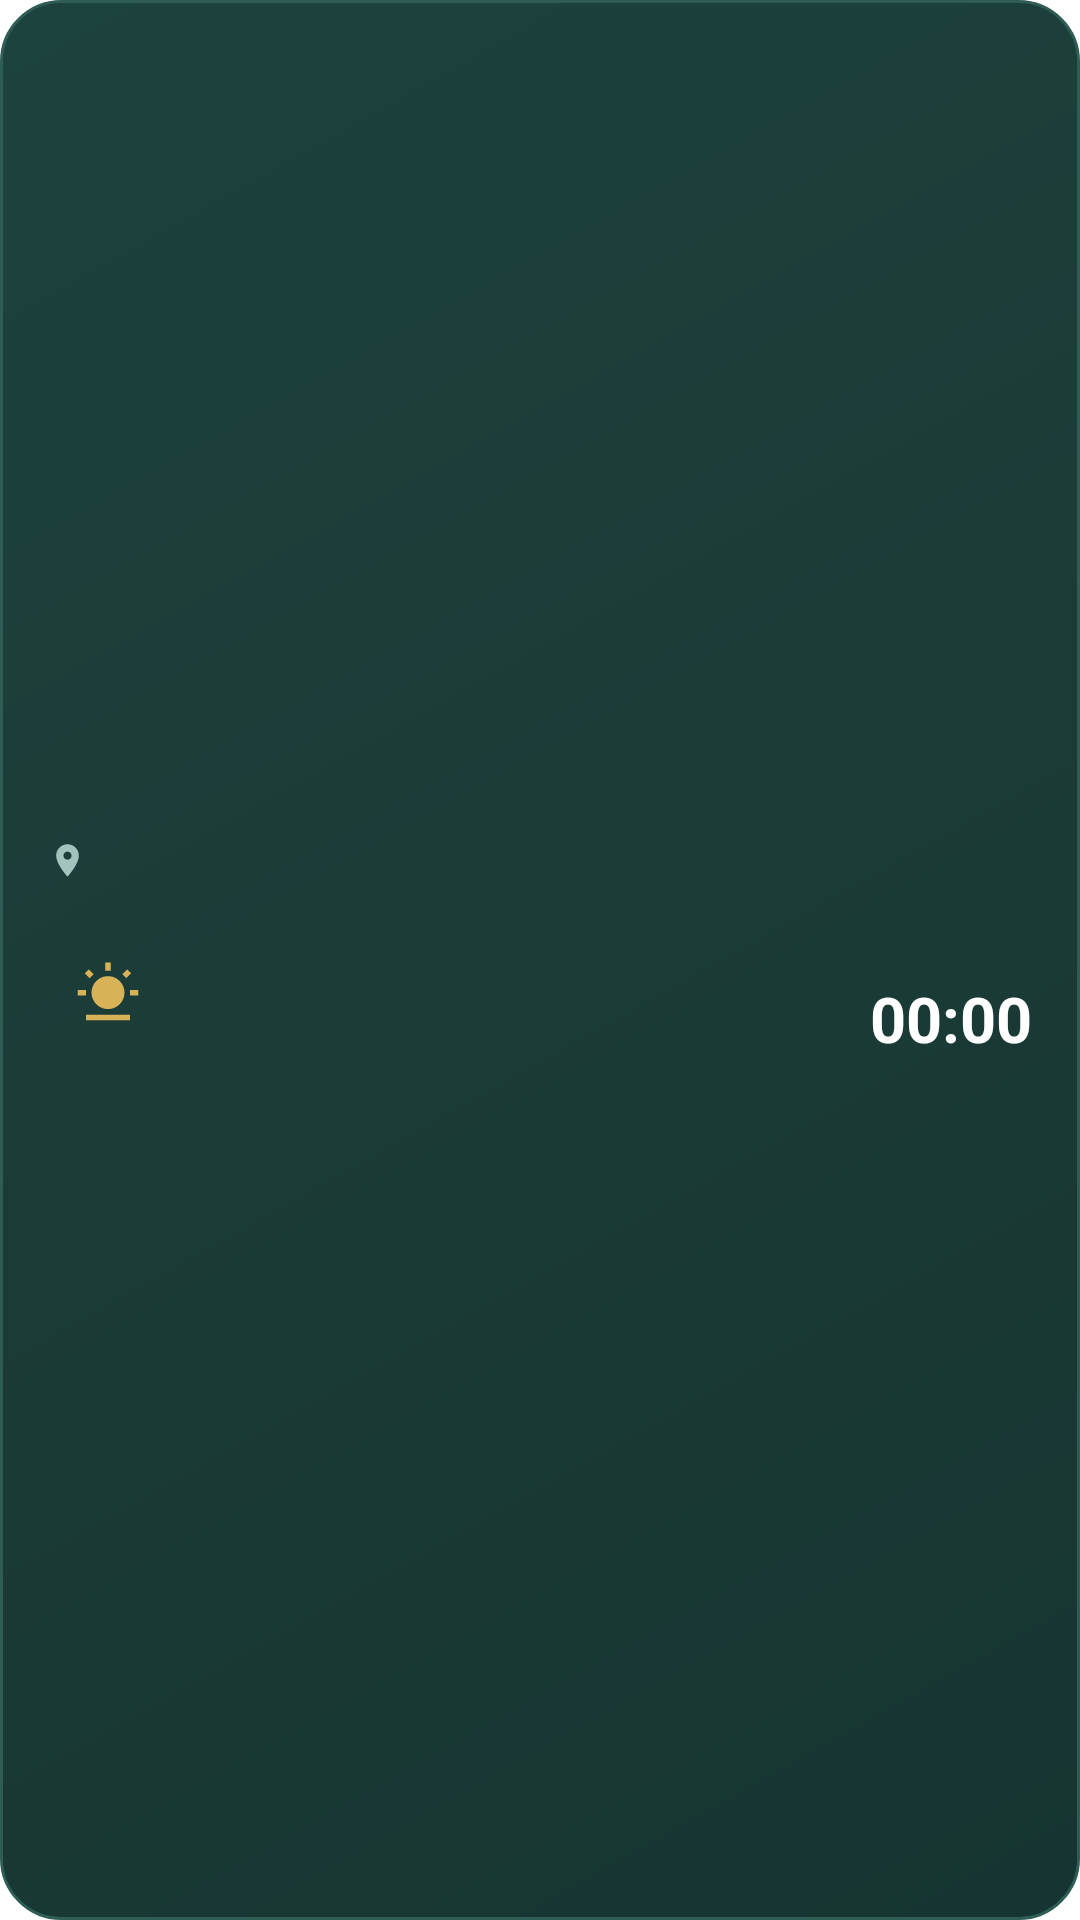

Where icons sit on this 1080×1920 app screen, as rect(x1, y1, x2, y2):
widget location: rect(56, 844, 79, 877)
